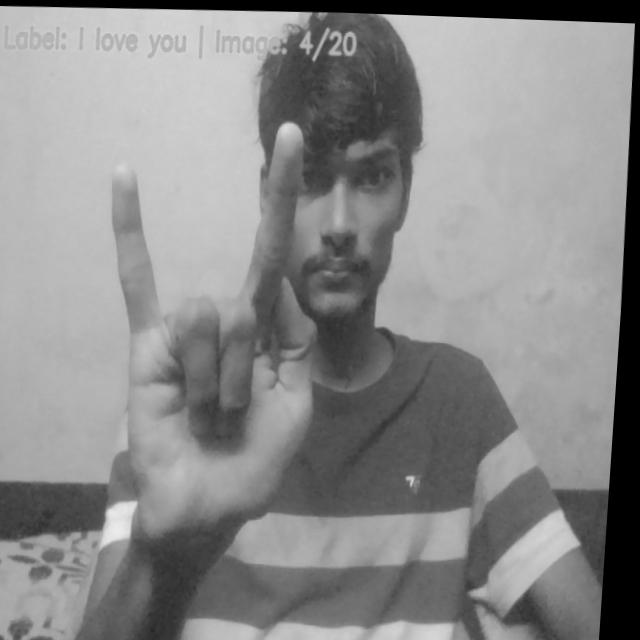I love you: (86, 108, 345, 536)
